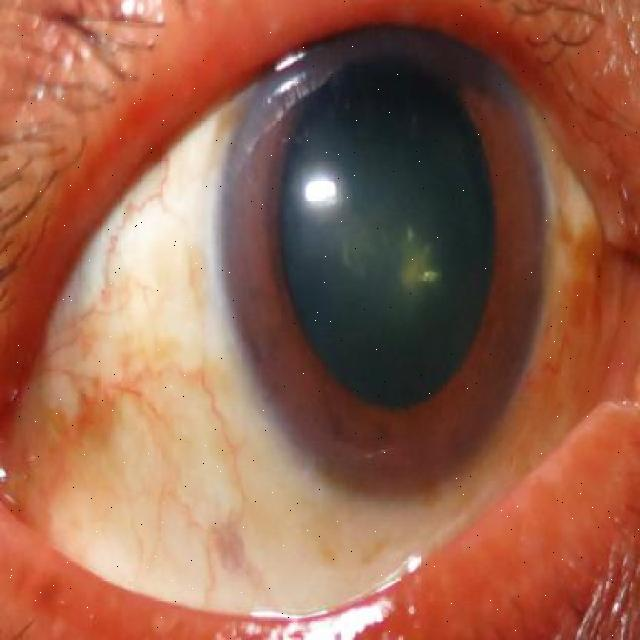Cataract: (218, 18, 550, 494)
